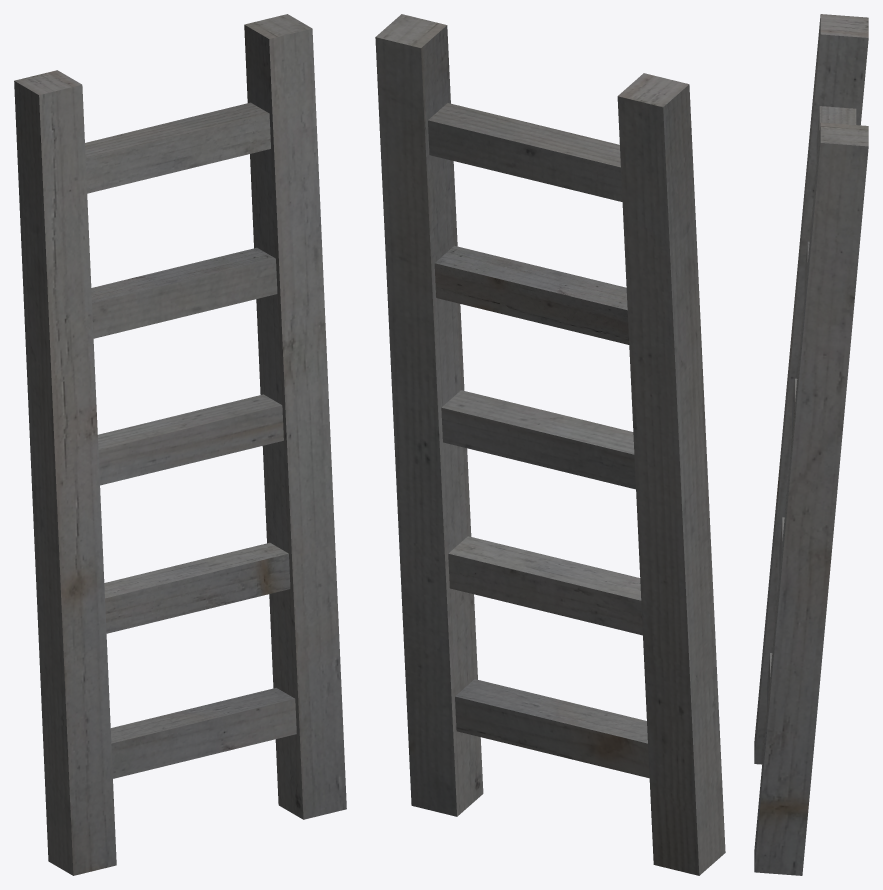
File: LadderDown.glb
The picture shows the model from 3 angles, left to right: view 1: azimuth 30°, elevation 25°; view 2: azimuth 150°, elevation 25°; view 3: azimuth 270°, elevation 25°; orthographic projection. The views are drawn at different scales.
Visible parts, largest first — view 1: LadderDown; view 2: LadderDown; view 3: LadderDown.
Part boxes in pixels (left/top/right/bottom): LadderDown: left=14, top=14, right=346, bottom=875; LadderDown: left=375, top=14, right=725, bottom=875; LadderDown: left=754, top=14, right=868, bottom=875.
Bounding box in the file's own units: 0.8073 × 2.14 × 0.3031.
Materials: 1 (1 with a texture image).
